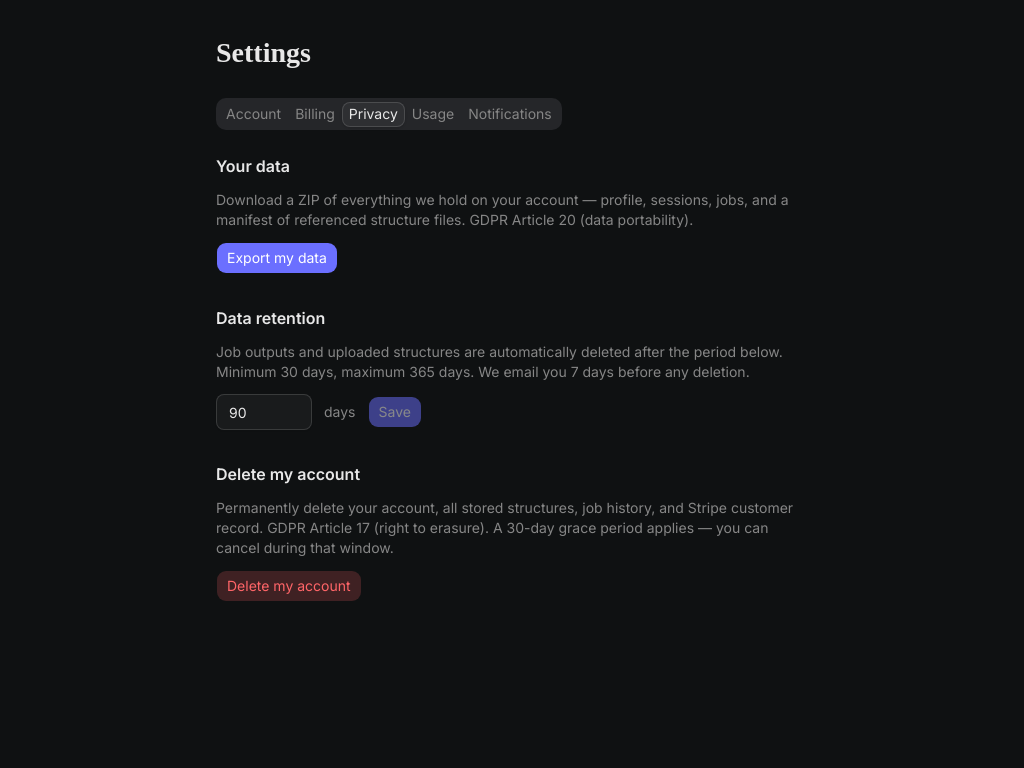
Scenario: SettingsPage Privacy tab (Plan 10-04) › clicking 'Delete my account' opens the confirmation dialog
Expected: the heading "Your data" is shown, [216,156,290,176]
Click the button "Delete my account". click: (289, 586)
box: [216,570,362,602]
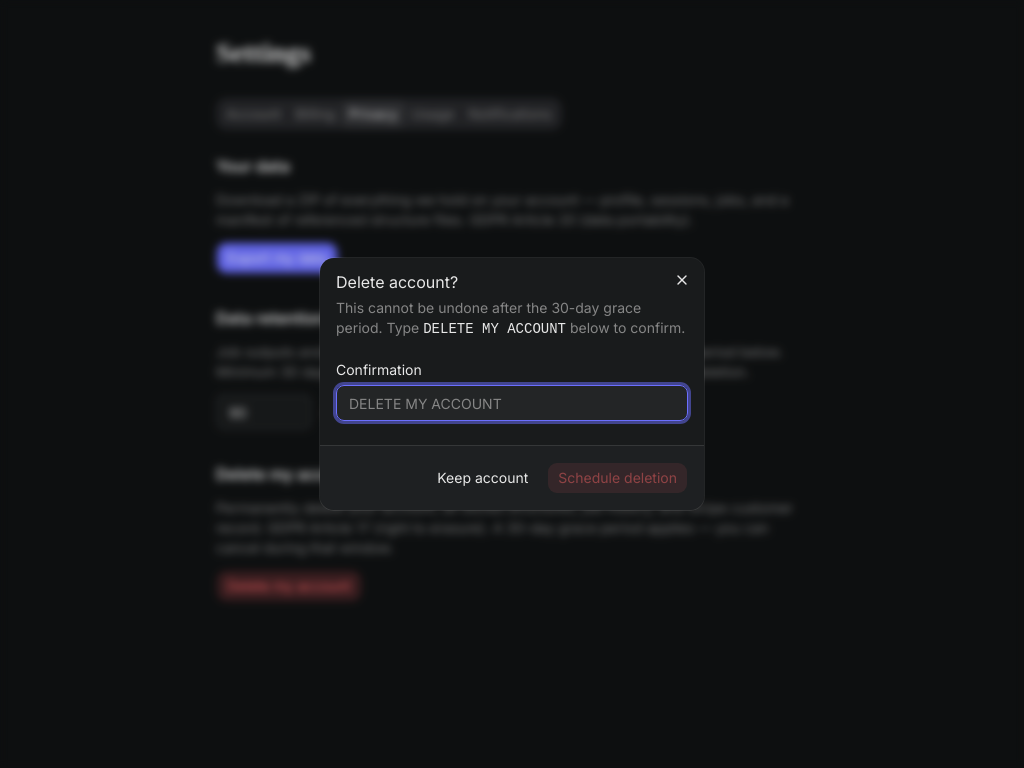
Now the heading "Delete account?" is shown, box [336,272,458,292]
